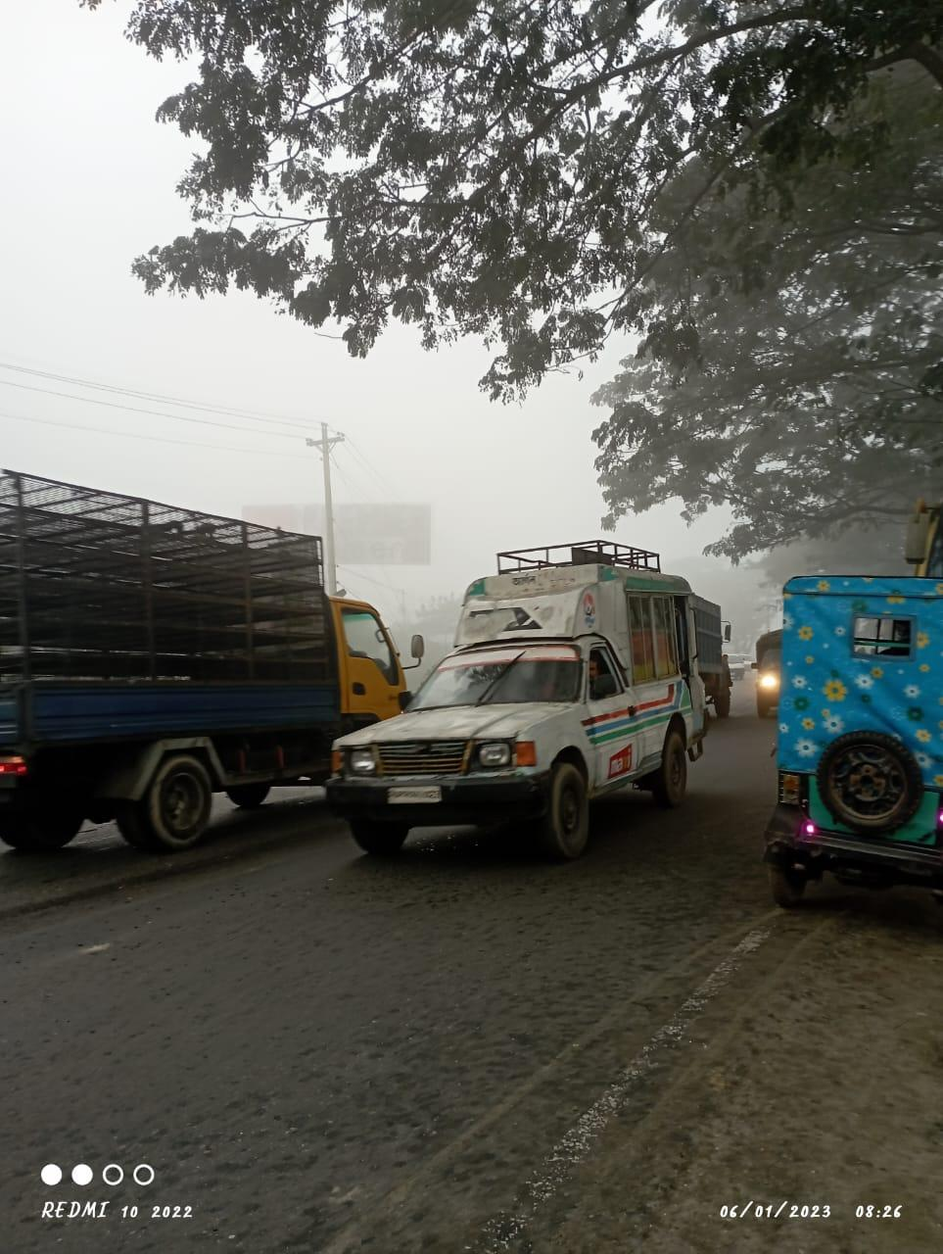Car: (318, 538, 717, 858), (762, 559, 938, 914)
Truck: (2, 456, 421, 830)
